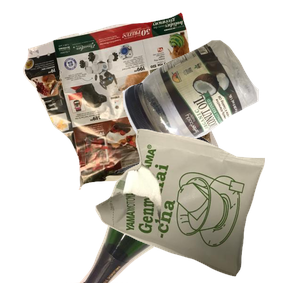glass: (66, 120, 279, 300)
paper: (20, 10, 231, 190)
plastic: (120, 37, 300, 185)
trash: (93, 126, 300, 300)
